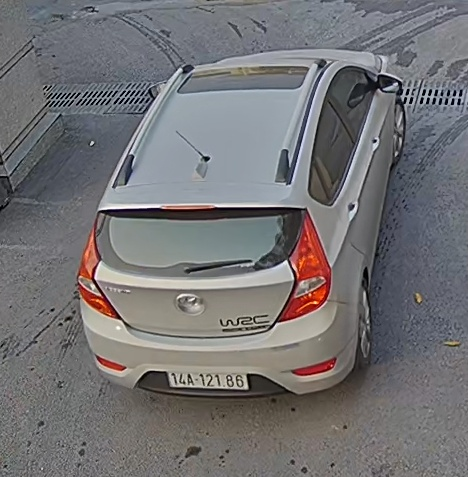vehicle plate: (165, 362, 249, 393)
